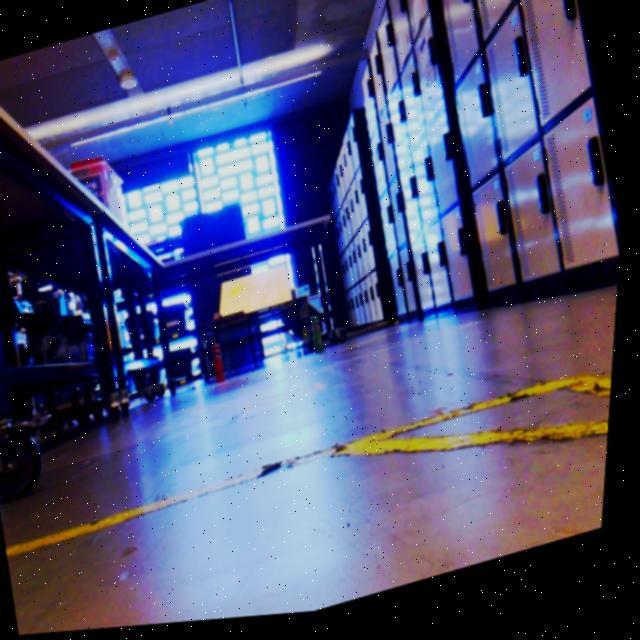greenpringles: (302, 310, 344, 372)
redpringles: (204, 334, 246, 401)
